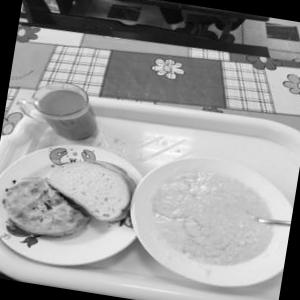bread: (35, 148, 145, 234)
cheese_sandwich: (0, 172, 98, 251)
coffee: (18, 68, 112, 150)
porridge: (134, 152, 288, 284)
